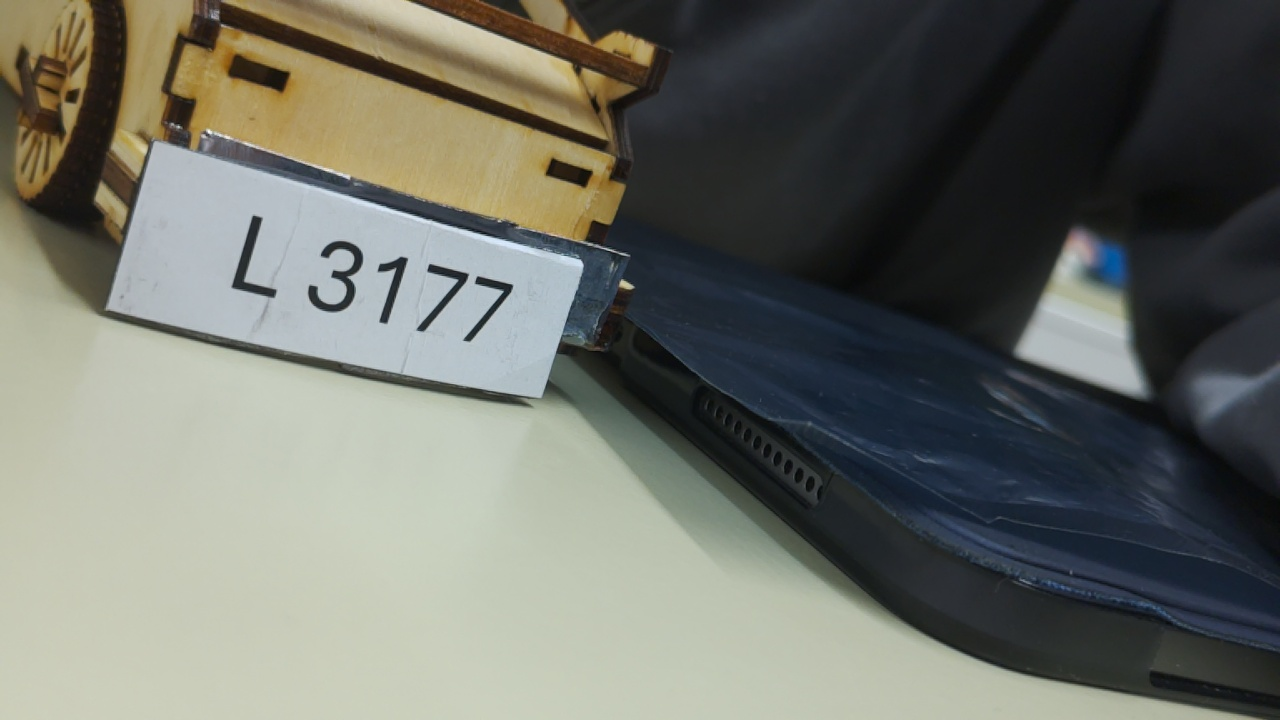license_plate: (84, 129, 592, 409)
